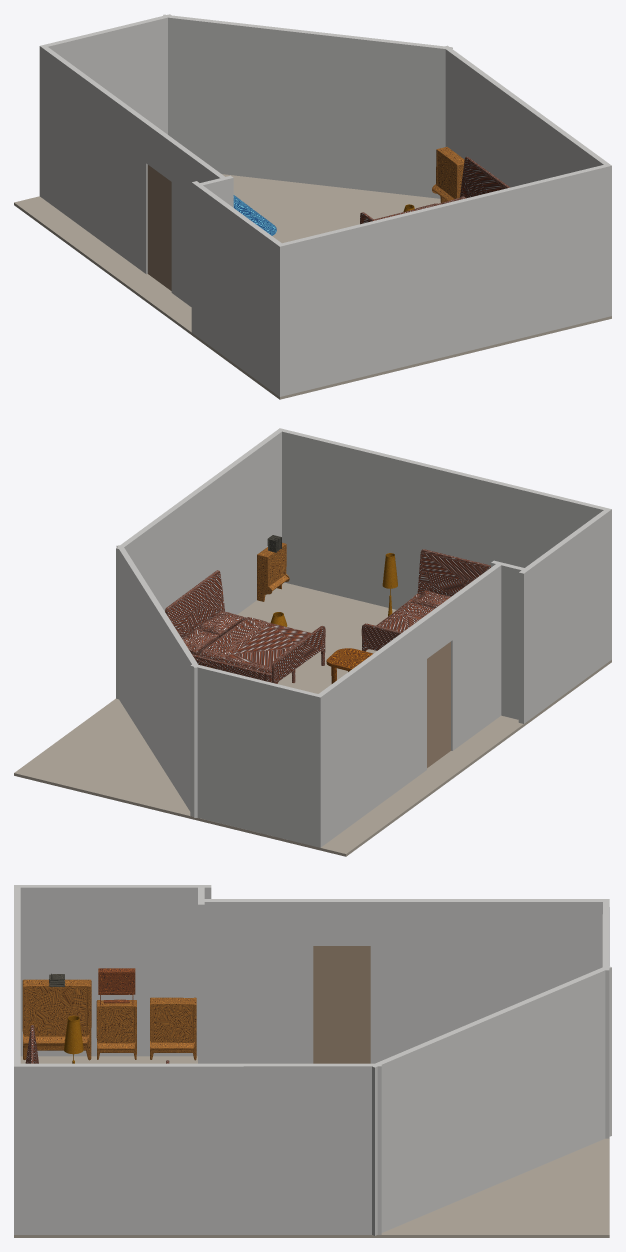
The model's file is room_079.glb.
3 views of the same model, one above another, from view 1: azimuth 30°, elevation 25°; view 2: azimuth 150°, elevation 25°; view 3: azimuth 270°, elevation 25° (orthographic). The views are drawn at different scales.
Parts seen in each view (by area): view 1: shell_wall_6_s0, shell_wall_1_s0, shell_wall_3_s0, shell_wall_5_s0, shell_floor, shell_wall_0_s0, shell_wall_2_s0, shell_wall_3_s2, shell_wall_3_door, obj_013_p0, obj_015_p0, shell_wall_3_s1 (+2 smaller); view 2: shell_wall_6_s0, shell_floor, shell_wall_2_s0, shell_wall_3_s0, shell_wall_0_s0, shell_wall_5_s0, shell_wall_1_s0, obj_013_p0, shell_wall_3_s2, obj_001_p0, shell_wall_4_s0, shell_wall_3_door (+3 smaller); view 3: shell_wall_0_s0, shell_wall_1_s0, shell_wall_3_s0, shell_wall_5_s0, shell_wall_3_s2, shell_floor, shell_wall_3_door, obj_000_p0, shell_wall_3_s1, obj_006_p0, obj_004_p0, shell_wall_2_s0 (+4 smaller).
Boxes of the visible parts, left/top/right/bottom form: shell_wall_6_s0: left=277, top=164, right=611, bottom=396; shell_wall_1_s0: left=162, top=14, right=452, bottom=198; shell_wall_3_s0: left=39, top=46, right=150, bottom=274; shell_wall_5_s0: left=191, top=181, right=284, bottom=396; shell_floor: left=14, top=174, right=611, bottom=399; shell_wall_0_s0: left=443, top=45, right=611, bottom=187; shell_wall_2_s0: left=40, top=14, right=171, bottom=134; shell_wall_3_s2: left=171, top=141, right=228, bottom=306; shell_wall_3_door: left=147, top=164, right=171, bottom=290; obj_013_p0: left=360, top=156, right=509, bottom=224; obj_015_p0: left=432, top=147, right=464, bottom=202; shell_wall_3_s1: left=146, top=122, right=176, bottom=181; shell_wall_6_s0: left=280, top=428, right=611, bottom=659; shell_floor: left=14, top=582, right=611, bottom=856; shell_wall_2_s0: left=190, top=664, right=322, bottom=847; shell_wall_3_s0: left=318, top=618, right=426, bottom=847; shell_wall_0_s0: left=116, top=428, right=284, bottom=699; shell_wall_5_s0: left=518, top=508, right=611, bottom=723; shell_wall_1_s0: left=116, top=545, right=199, bottom=817; obj_013_p0: left=165, top=570, right=325, bottom=683; shell_wall_3_s2: left=448, top=562, right=502, bottom=750; obj_001_p0: left=361, top=549, right=490, bottom=651; shell_wall_4_s0: left=491, top=560, right=524, bottom=719; shell_wall_3_door: left=427, top=641, right=450, bottom=767; shell_wall_0_s0: left=14, top=1063, right=381, bottom=1234; shell_wall_1_s0: left=370, top=966, right=611, bottom=1235; shell_wall_3_s0: left=370, top=899, right=609, bottom=1063; shell_wall_5_s0: left=14, top=885, right=211, bottom=1056; shell_wall_3_s2: left=198, top=899, right=313, bottom=1063; shell_floor: left=14, top=1056, right=609, bottom=1237; shell_wall_3_door: left=313, top=946, right=370, bottom=1063; obj_000_p0: left=22, top=979, right=91, bottom=1060; shell_wall_3_s1: left=313, top=899, right=370, bottom=945; obj_006_p0: left=150, top=997, right=196, bottom=1060; obj_004_p0: left=96, top=1000, right=136, bottom=1059; shell_wall_2_s0: left=602, top=899, right=609, bottom=1138.
Size of the model in its own units: 6.51 by 2.85 by 9.01.
Materials: 8 (8 with a texture image).
